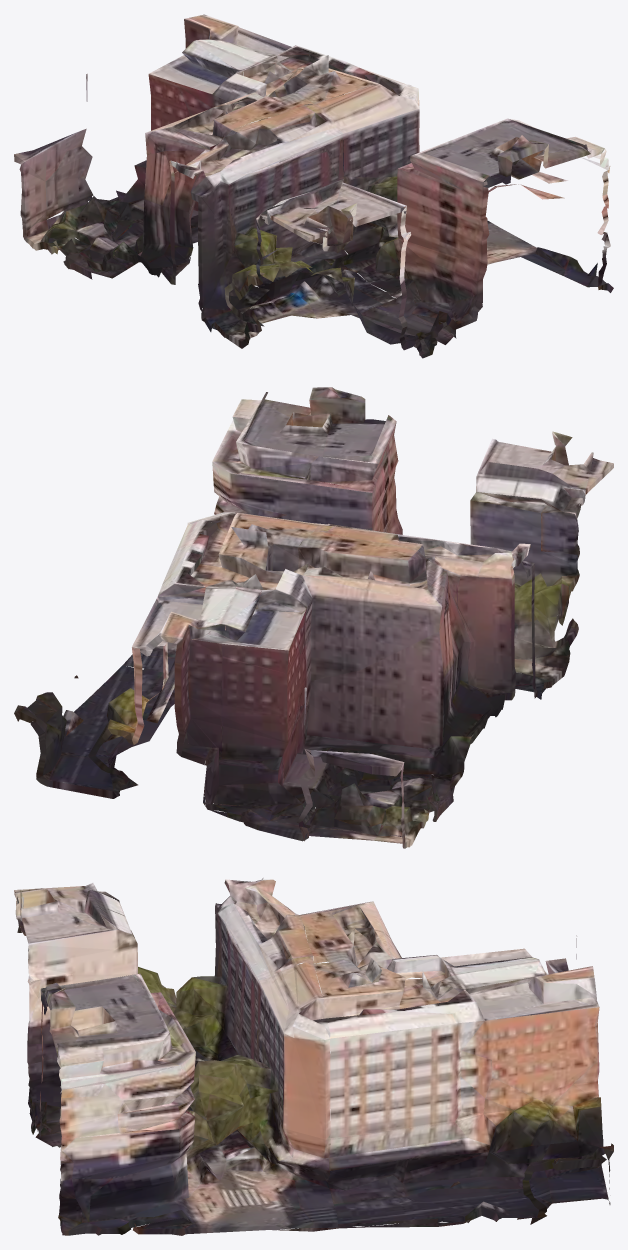
3 renders of one model, top to bottom at view 1: azimuth 30°, elevation 25°; view 2: azimuth 150°, elevation 25°; view 3: azimuth 270°, elevation 25°, orthographic. The views are drawn at different scales.
Parts seen in each view (by area): view 1: Mesh_0; view 2: Mesh_0; view 3: Mesh_0.
Part boxes in pixels (x1,y1,x2,y2): Mesh_0: (14,14,613,358); Mesh_0: (14,387,613,848); Mesh_0: (14,878,613,1235).
Size of the model in its own units: 66.56 by 33.52 by 82.48.
Materials: 1 (1 with a texture image).
